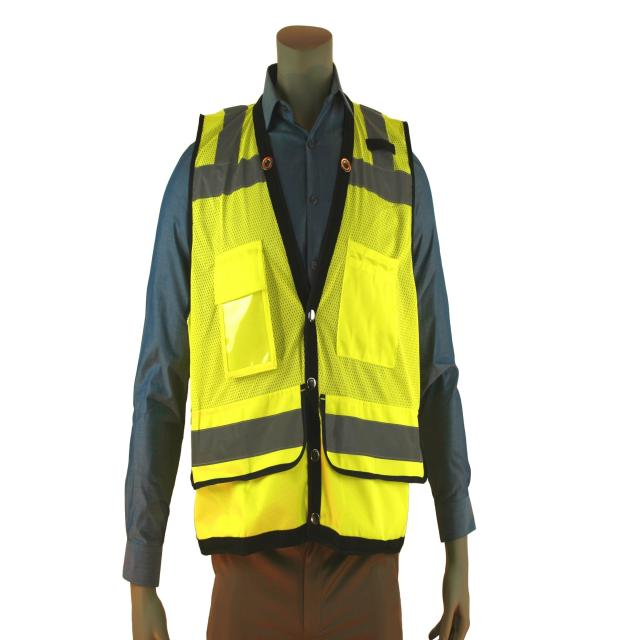Vest: (184, 96, 429, 555)
